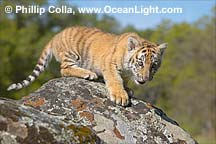Tigre: (35, 25, 178, 100)
